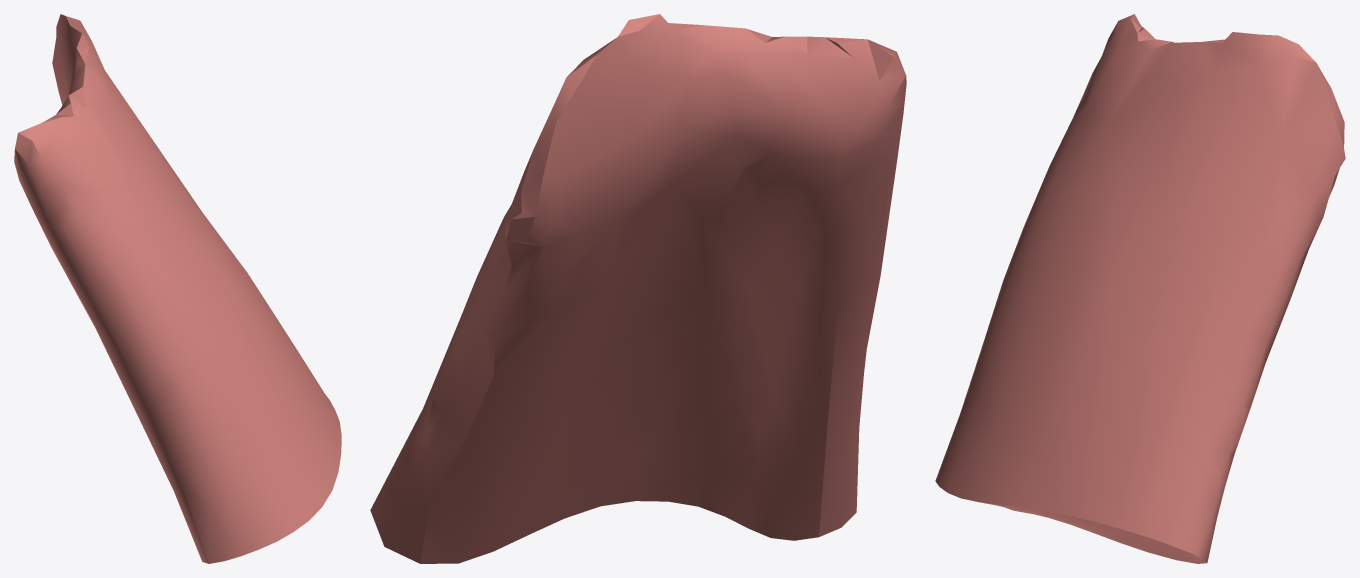
Rendered from fma39347-n_mm1932.glb.
3 renders of one model, left to right at view 1: azimuth 30°, elevation 25°; view 2: azimuth 150°, elevation 25°; view 3: azimuth 270°, elevation 25°, orthographic. The views are drawn at different scales.
Parts seen in each view (by area): view 1: FMA39347-N_MM1932; view 2: FMA39347-N_MM1932; view 3: FMA39347-N_MM1932.
Boxes of the visible parts, left/top/right/bottom form: FMA39347-N_MM1932: left=14, top=14, right=341, bottom=563; FMA39347-N_MM1932: left=370, top=14, right=906, bottom=563; FMA39347-N_MM1932: left=935, top=14, right=1345, bottom=563.
Size of the model in its own units: 0.0117 by 0.0149 by 0.0121.
